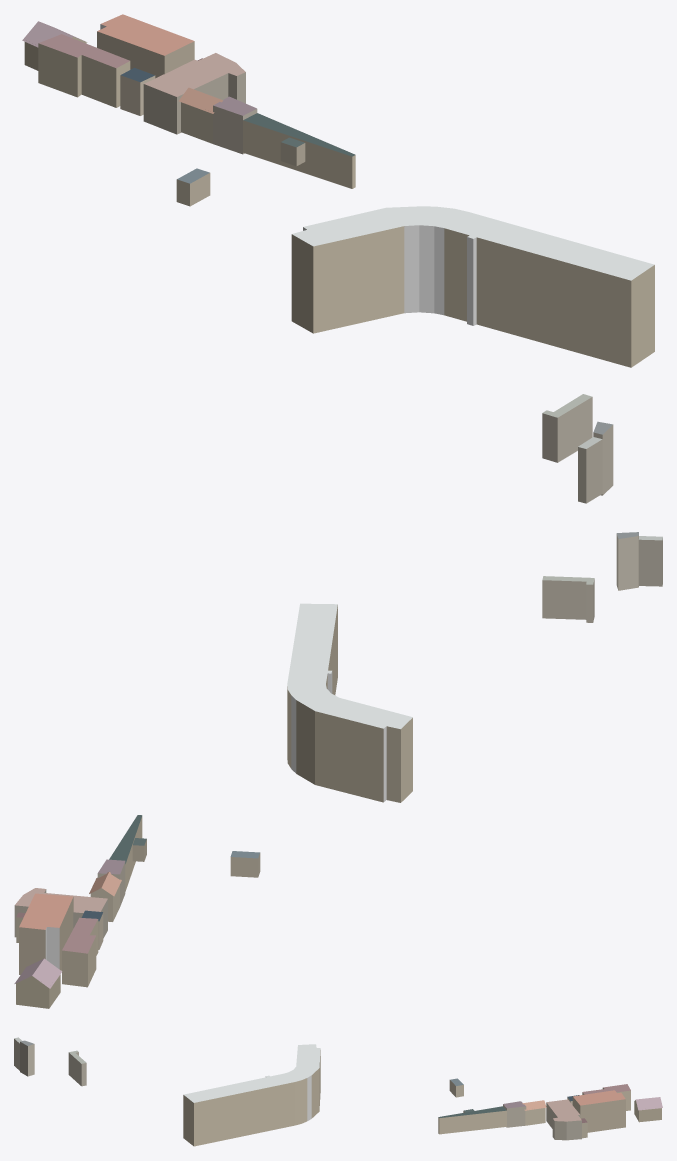
3 renders of one model, top to bottom at view 1: azimuth 30°, elevation 25°; view 2: azimuth 150°, elevation 25°; view 3: azimuth 270°, elevation 25°, orthographic. The views are drawn at different scales.
Visible parts, largest first — view 1: tuile; view 2: tuile; view 3: tuile.
Part boxes in pixels (x1=…): tuile: x1=22, y1=14, x2=654, y2=503; tuile: x1=14, y1=532, x2=662, y2=1008; tuile: x1=14, y1=1037, x2=662, y2=1146.
Bounding box in the file's own units: 55.49 × 23.31 × 247.
